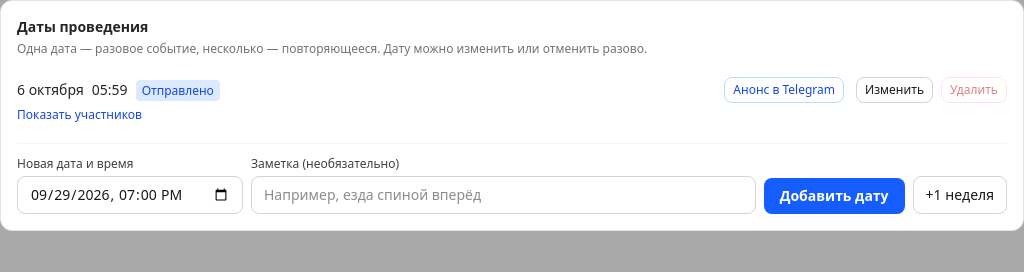
it: EventDatesManager › участник без username показывается без ссылки на профиль
Click the button "Показать участников".
click(80, 115)  # box [17,107,142,123]
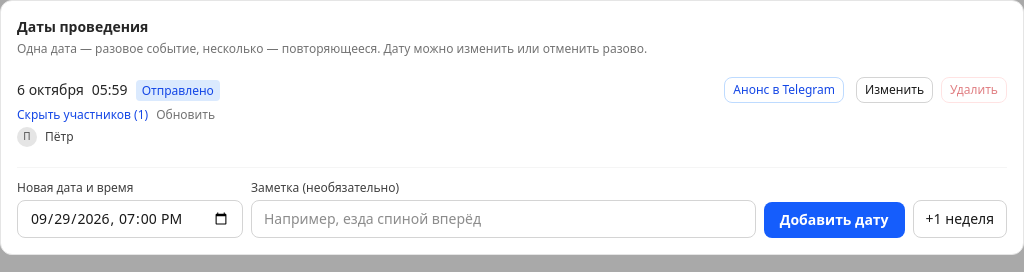
Expected: the text "Пётр" is shown, [45,129,74,145]
